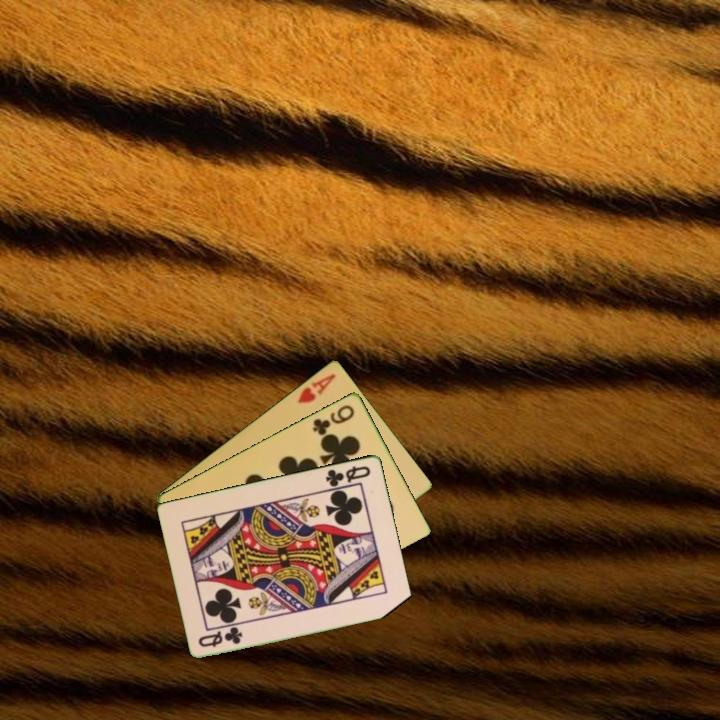9c: (309, 401, 357, 438)
Ah: (294, 369, 338, 406)
Qc: (322, 462, 374, 489), (195, 624, 246, 650)
